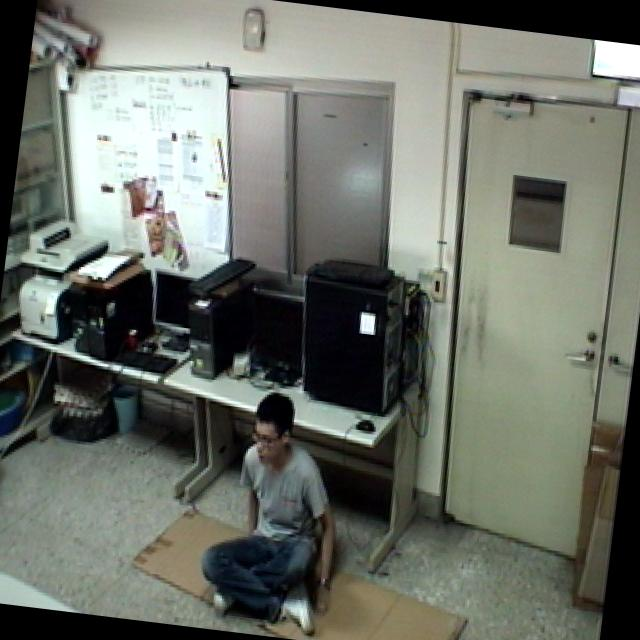sit: (195, 380, 367, 638)
